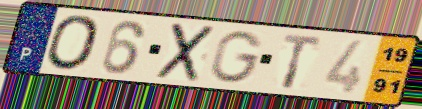4: (321, 38, 367, 97)
6: (99, 18, 149, 76)
G: (208, 29, 266, 85)
O: (45, 13, 103, 72)
T: (280, 32, 325, 92)
X: (152, 21, 218, 84)
